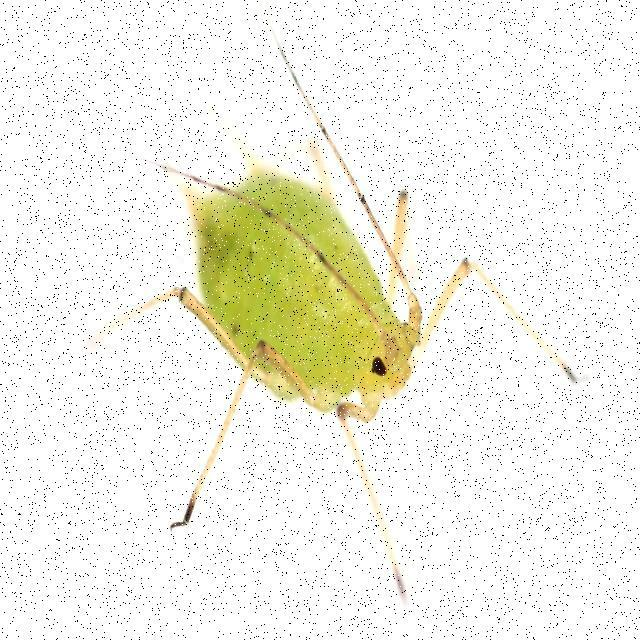Aphids: (78, 109, 580, 565)
